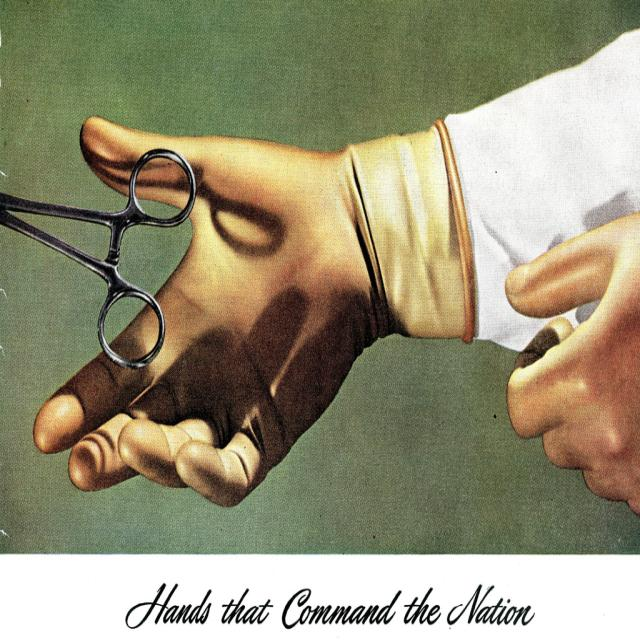scissors: (0, 146, 196, 370)
